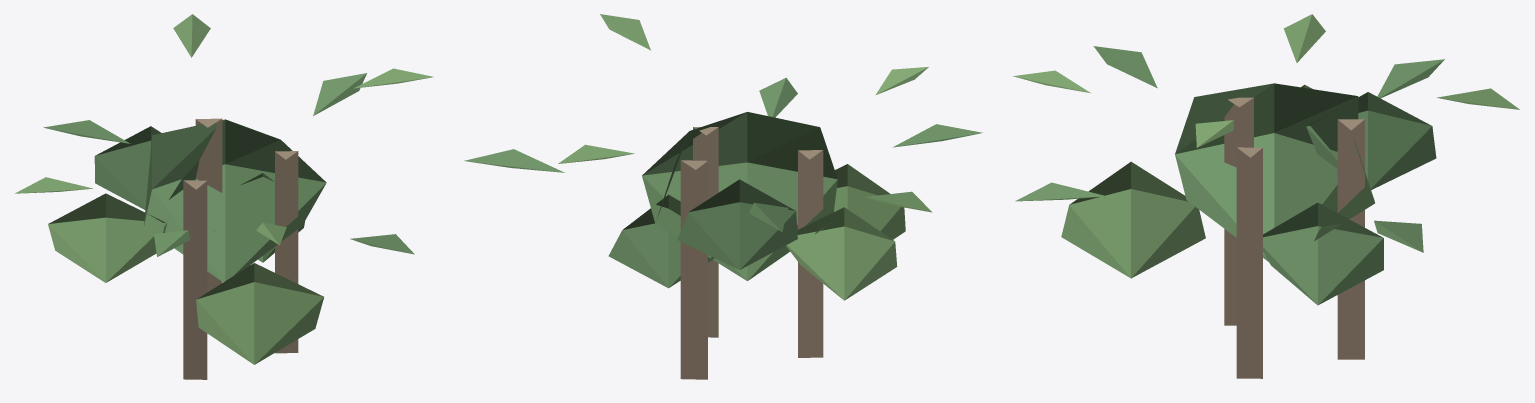
The model's file is guan.fusang@subadult__spring.glb.
The picture shows the model from 3 angles, left to right: view 1: azimuth 30°, elevation 25°; view 2: azimuth 150°, elevation 25°; view 3: azimuth 270°, elevation 25°; orthographic projection. The views are drawn at different scales.
Visible parts, largest first — view 1: guan.fusang@subadult__spring; view 2: guan.fusang@subadult__spring; view 3: guan.fusang@subadult__spring.
Part boxes in pixels (box(x1,y1,x2,y2)): guan.fusang@subadult__spring: box(15, 14, 433, 379); guan.fusang@subadult__spring: box(464, 14, 982, 379); guan.fusang@subadult__spring: box(1013, 14, 1519, 378).
Size of the model in its own units: 1.96 by 1.25 by 1.88.
